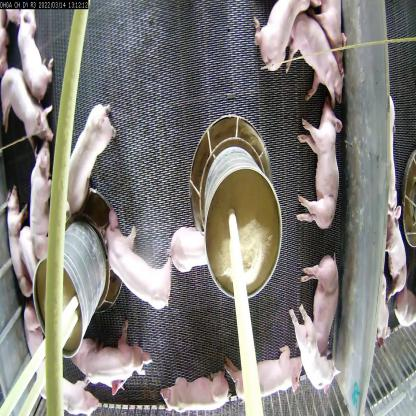Pig: (110, 221, 172, 329), (296, 102, 346, 230), (288, 18, 347, 110), (221, 340, 302, 407), (288, 310, 336, 415), (65, 96, 112, 203), (250, 0, 312, 79), (301, 235, 339, 360), (70, 324, 140, 386), (26, 140, 61, 262), (0, 76, 58, 142), (49, 352, 107, 415), (165, 368, 240, 415), (15, 10, 48, 106), (0, 193, 28, 306), (171, 220, 211, 283)
